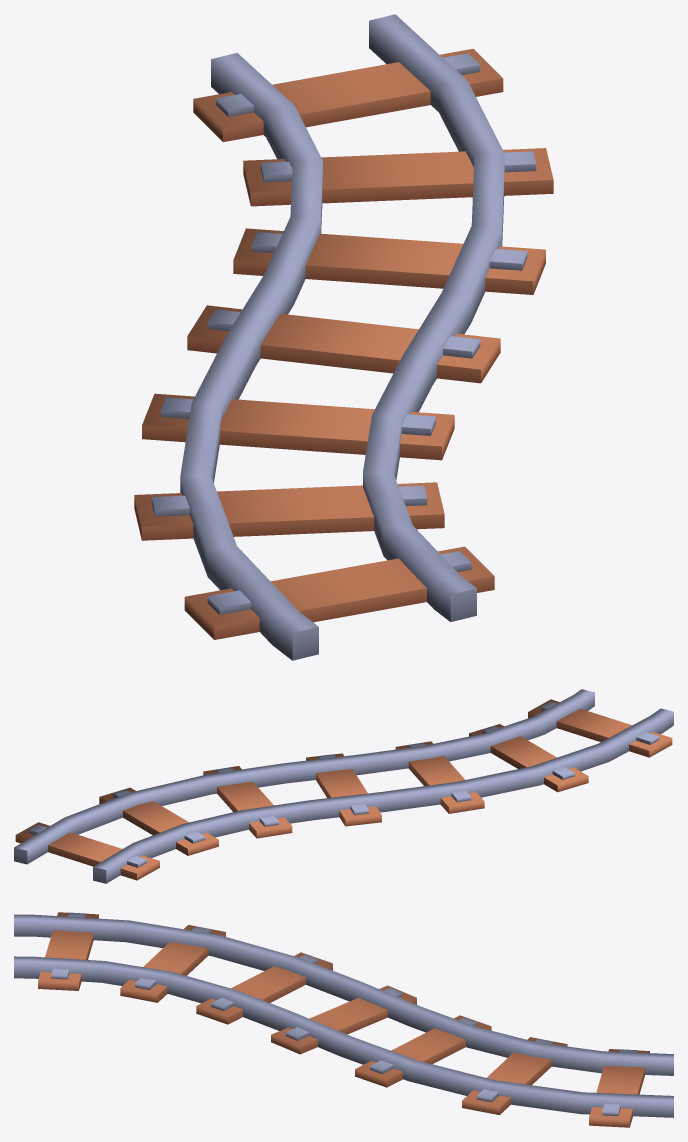
File: railroad-curve.glb
3 renders of one model, top to bottom at view 1: azimuth 30°, elevation 25°; view 2: azimuth 150°, elevation 25°; view 3: azimuth 270°, elevation 25°, orthographic. The views are drawn at different scales.
Visible parts, largest first — view 1: railroad-curve; view 2: railroad-curve; view 3: railroad-curve.
Part boxes in pixels (bbox=[...]): railroad-curve: bbox=[134, 14, 553, 660]; railroad-curve: bbox=[14, 689, 673, 883]; railroad-curve: bbox=[14, 912, 673, 1127].
Size of the model in its own units: 2.98 by 0.1 by 4.
